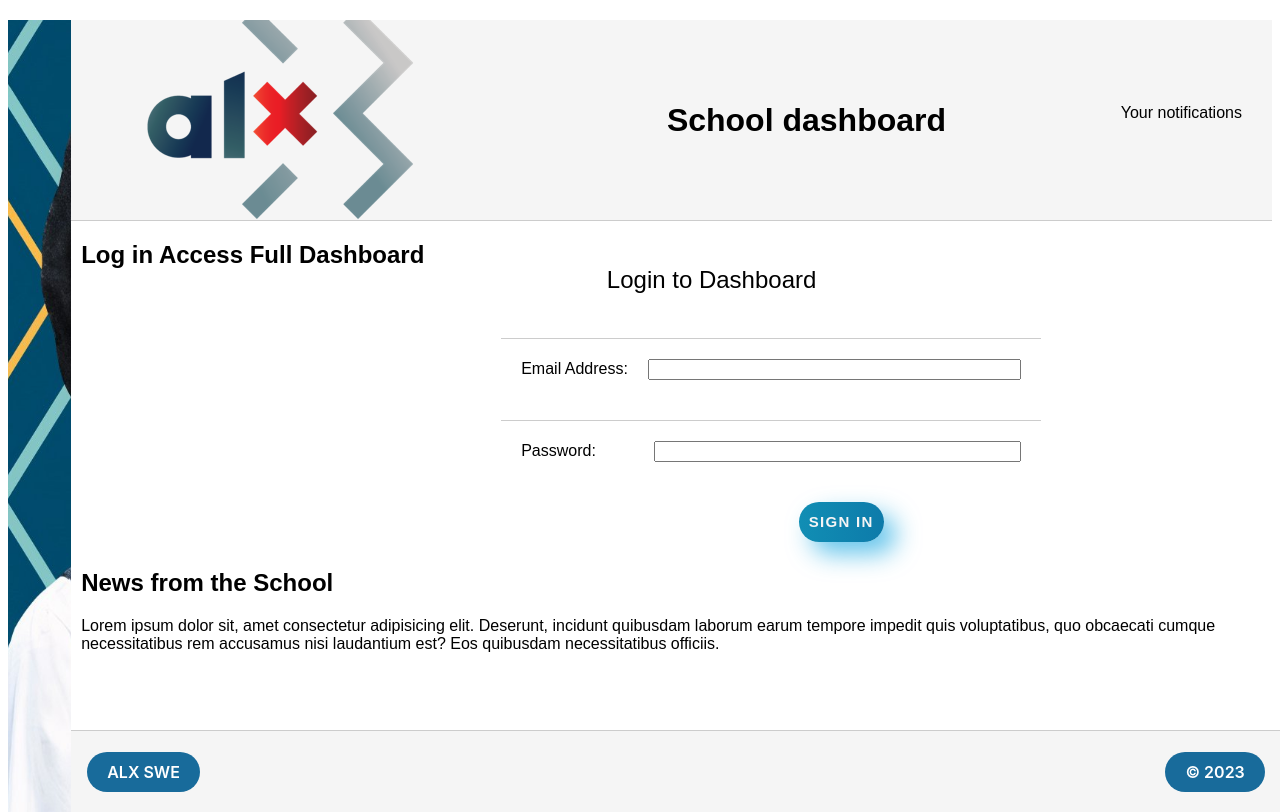
Scenario: Dashboard Component › marks notification as read when clicked
Click the text "Your notifications".
click(1181, 117)  # box [1121,112,1242,122]
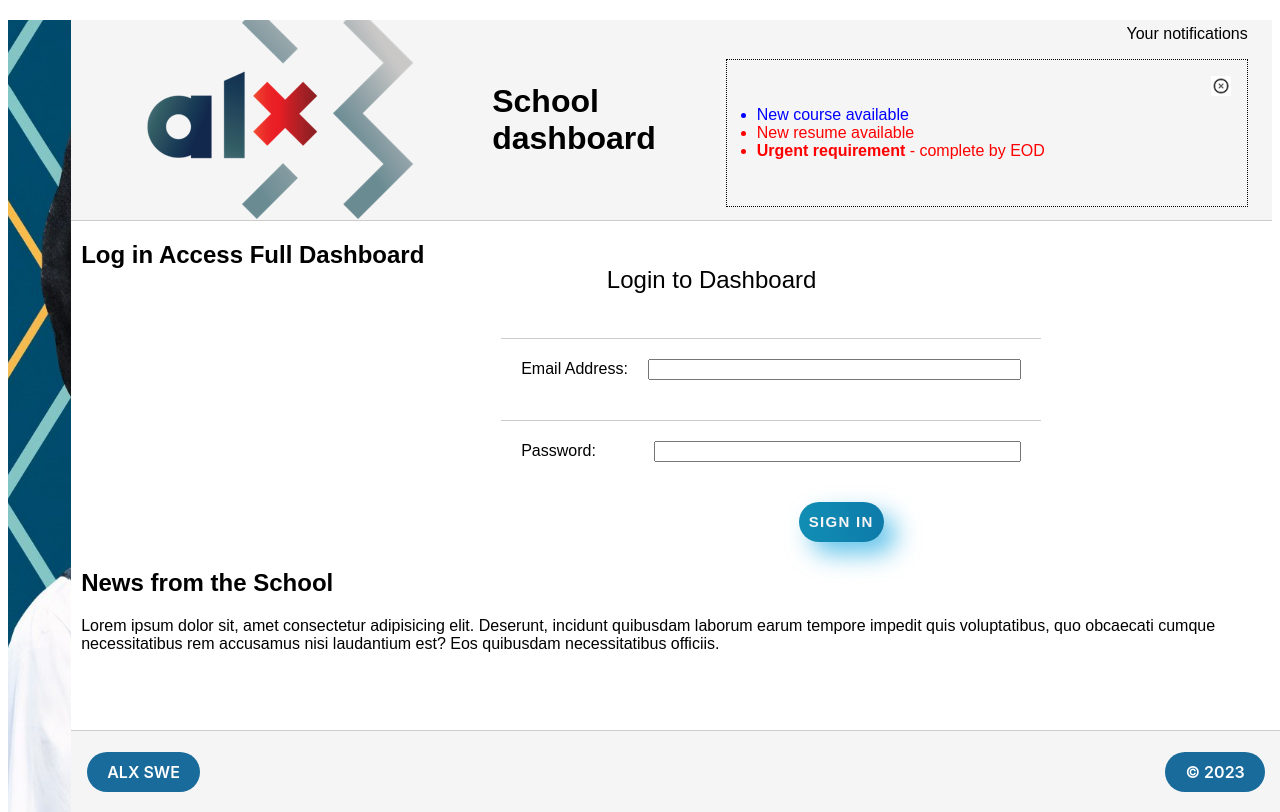
Click the list item "New course available".
click(833, 114)  # box [757,106,909,123]
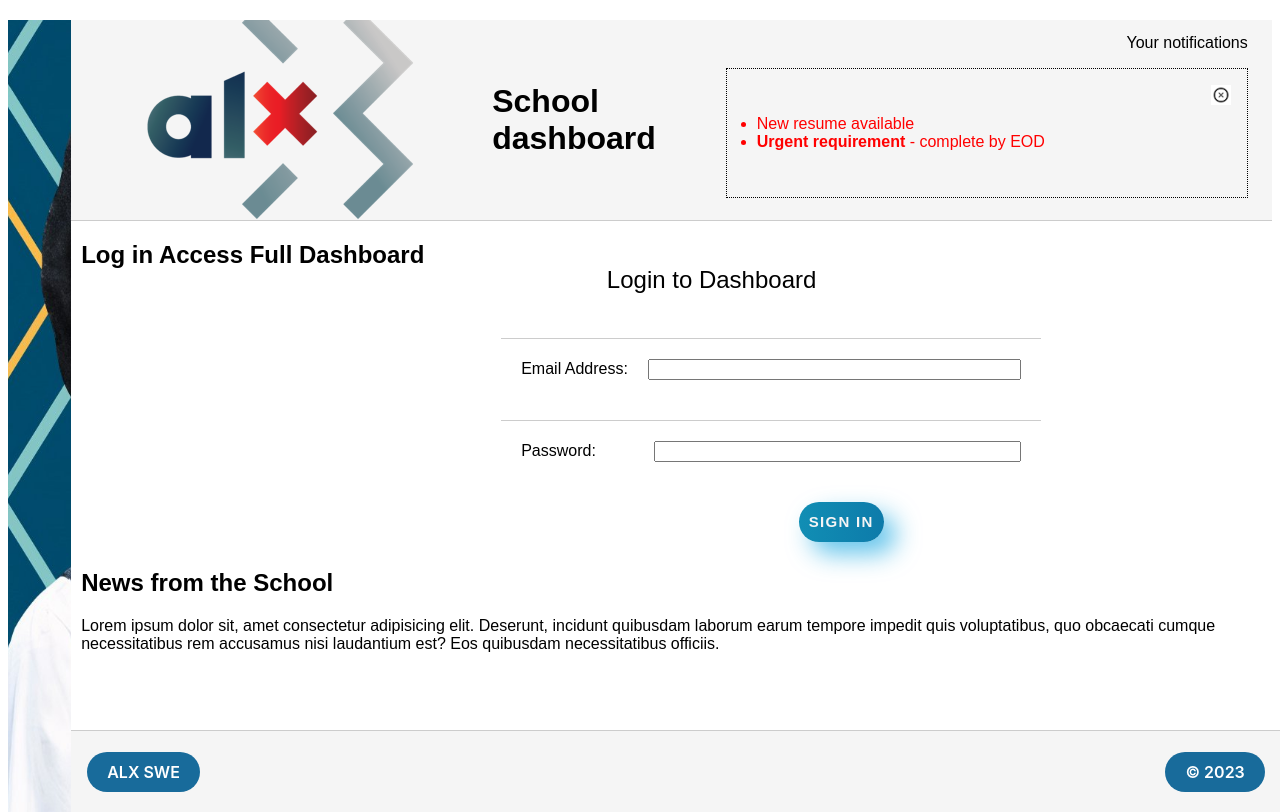
Check: the list item "New course available" is gone
